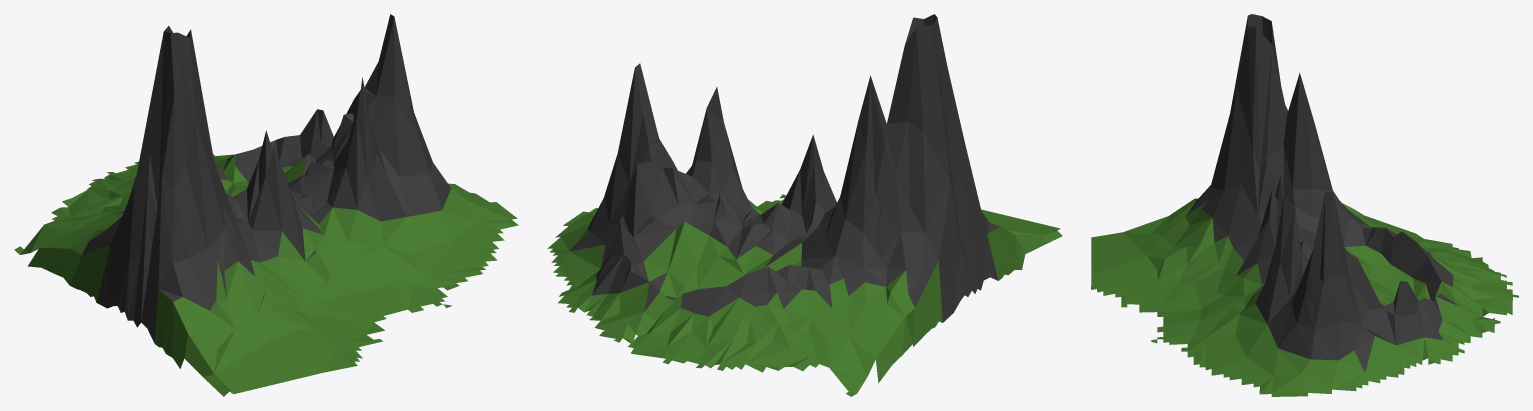
Rendered from Mountain8.fbx.
3 renders of one model, left to right at view 1: azimuth 30°, elevation 25°; view 2: azimuth 150°, elevation 25°; view 3: azimuth 270°, elevation 25°, orthographic. The views are drawn at different scales.
Visible parts, largest first — view 1: Plane.026; view 2: Plane.026; view 3: Plane.026.
Boxes of the visible parts, x1=… form: Plane.026: x1=14, y1=14, x2=518, y2=396; Plane.026: x1=547, y1=14, x2=1062, y2=396; Plane.026: x1=1091, y1=14, x2=1518, y2=396.
Bounding box in the file's own units: 1170 × 838 × 1291.
